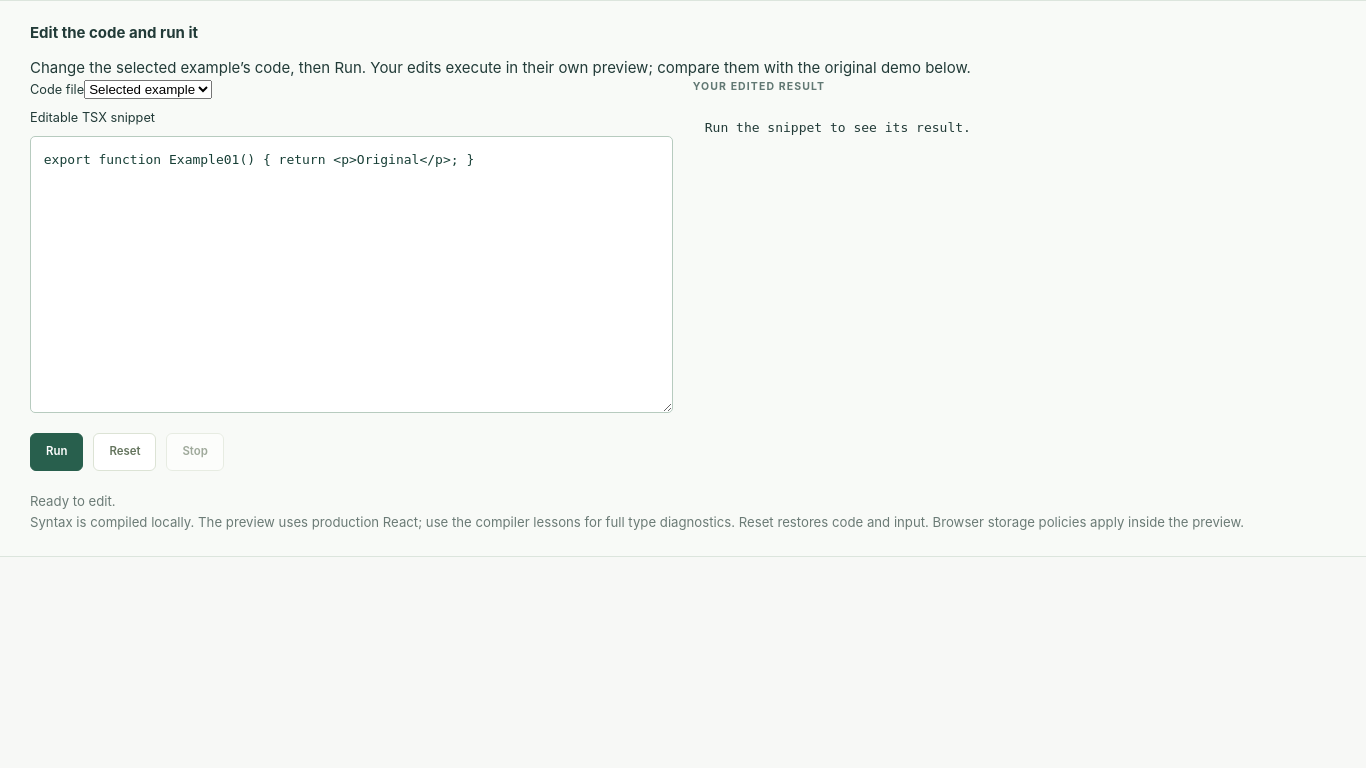
Test: editor controls and preview lifecycle › shows compilation errors and allows correction and another run
Expected: the button with aria-label "Stop snippet" is disabled, [166, 433, 224, 471]
Click the button with aria-label "Run snippet": {"x": 57, "y": 452} [30, 433, 83, 471]
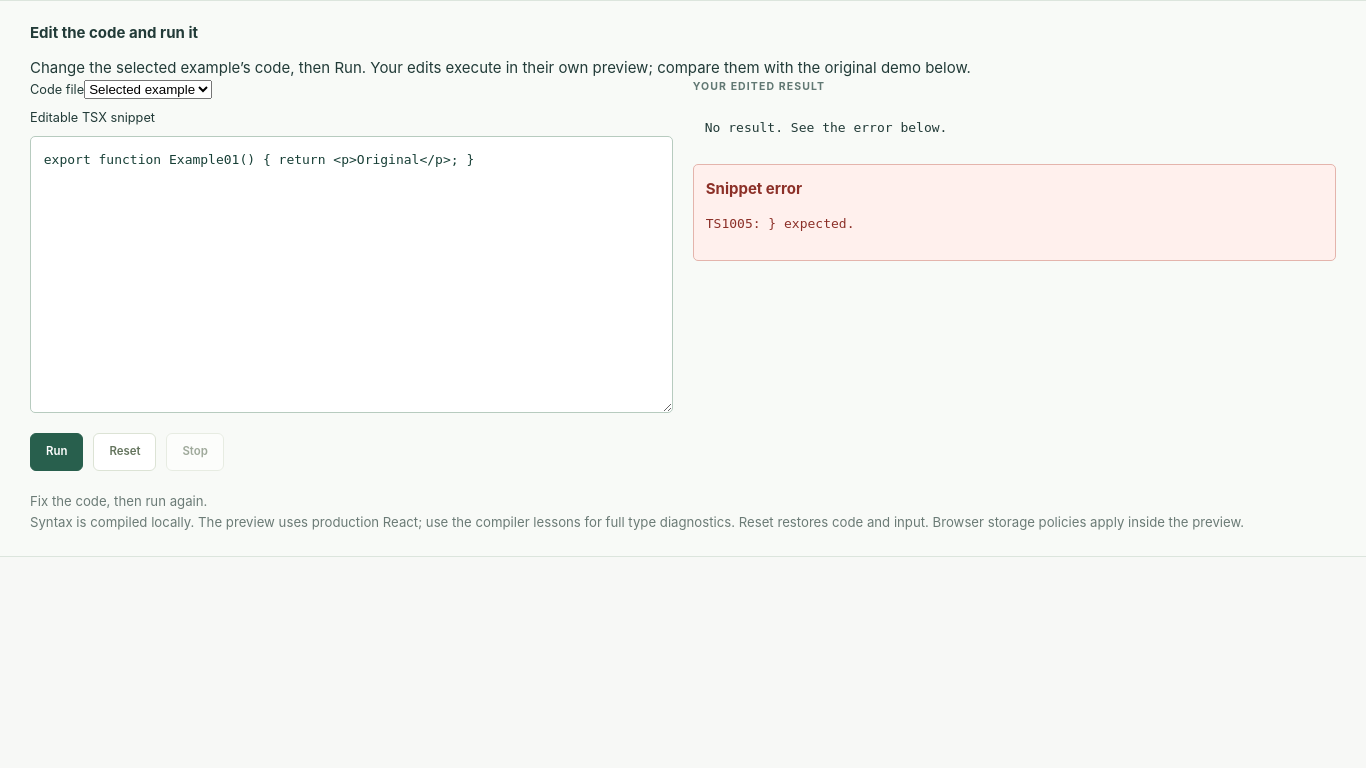
Expected: the message "Snippet error TS1005: } expected." is shown, [693, 164, 1336, 261]
Click the button with aria-label "Run snippet": {"x": 57, "y": 452} [30, 433, 83, 471]
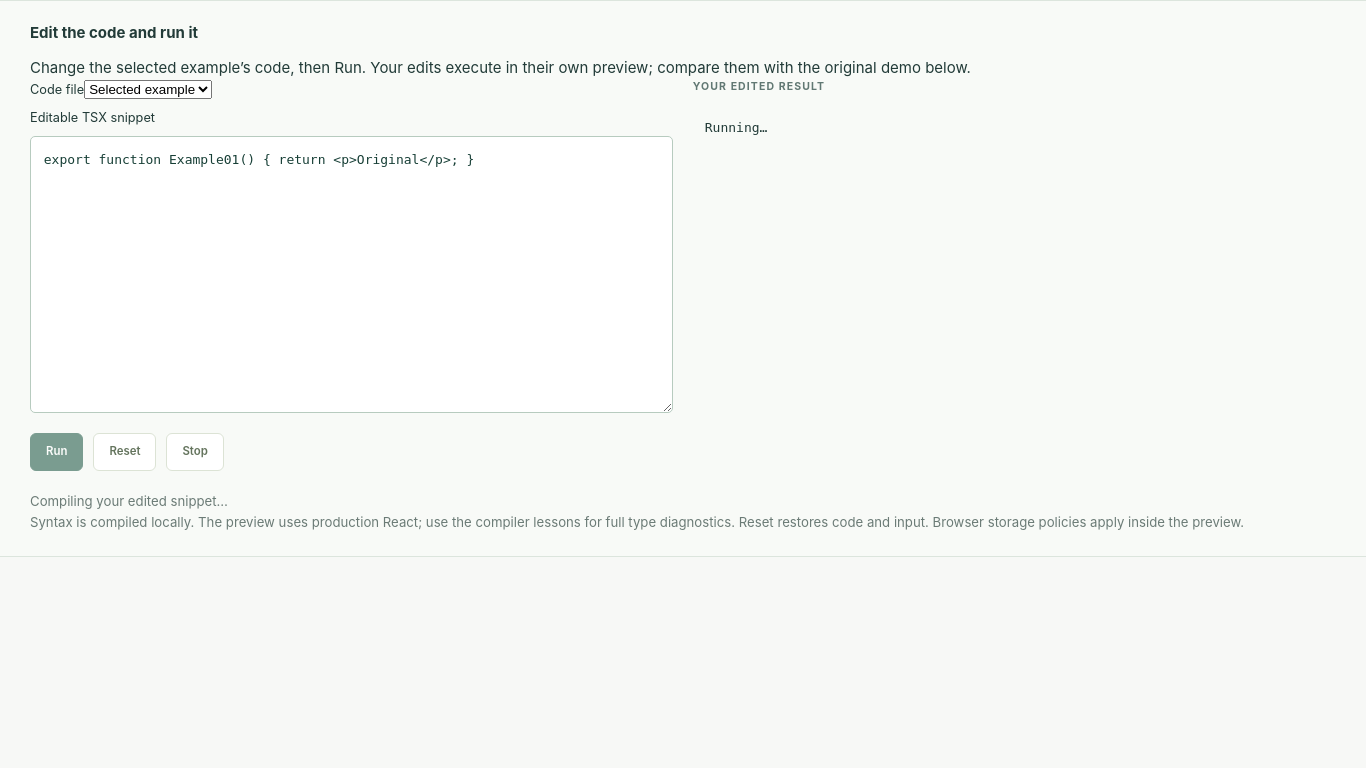
Expected: the message "Snippet error TS1005: } expected." is gone
